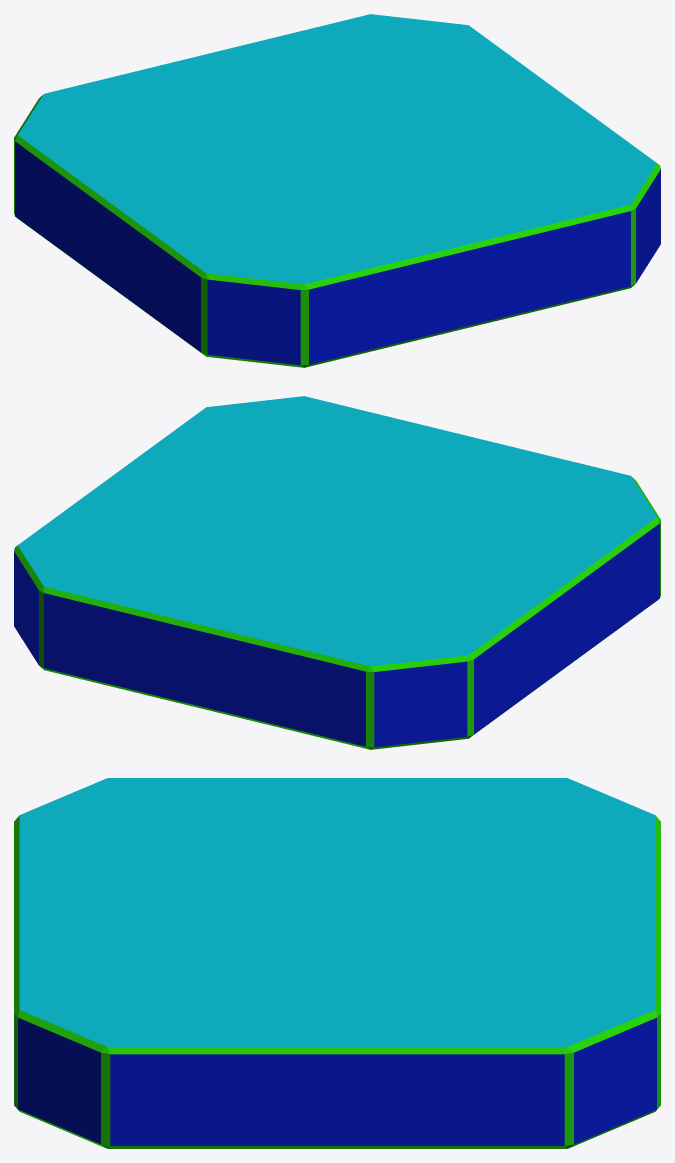
Rendered from Square Node.fbx.
The picture shows the model from 3 angles, top to bottom: view 1: azimuth 30°, elevation 25°; view 2: azimuth 150°, elevation 25°; view 3: azimuth 270°, elevation 25°; orthographic projection. The views are drawn at different scales.
Parts seen in each view (by area): view 1: Cube; view 2: Cube; view 3: Cube.
Part boxes in pixels (left/top/right/bottom): Cube: left=14, top=14, right=660, bottom=367; Cube: left=14, top=396, right=660, bottom=749; Cube: left=14, top=778, right=660, bottom=1148.
Bounding box in the file's own units: 200 × 34.78 × 200.
